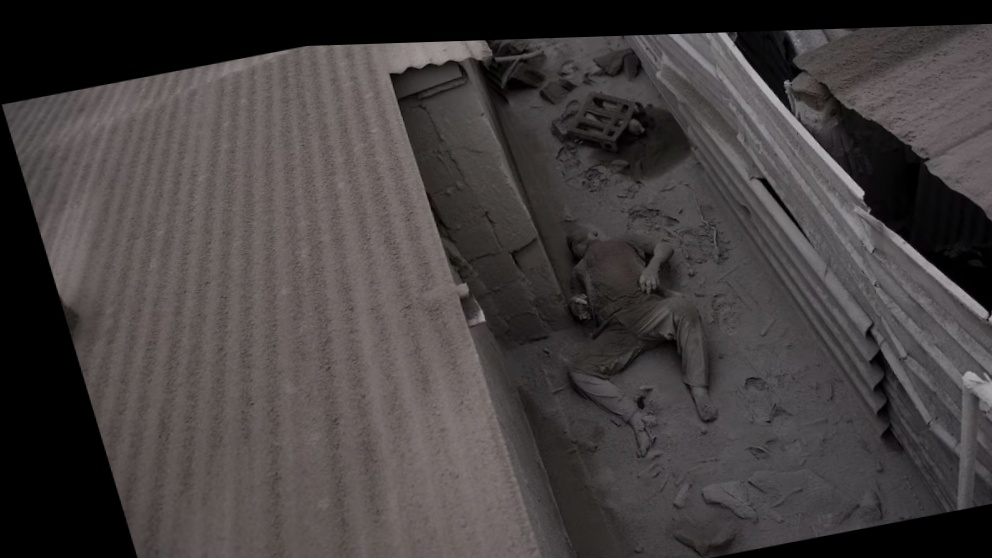Korban: (521, 204, 740, 469)
